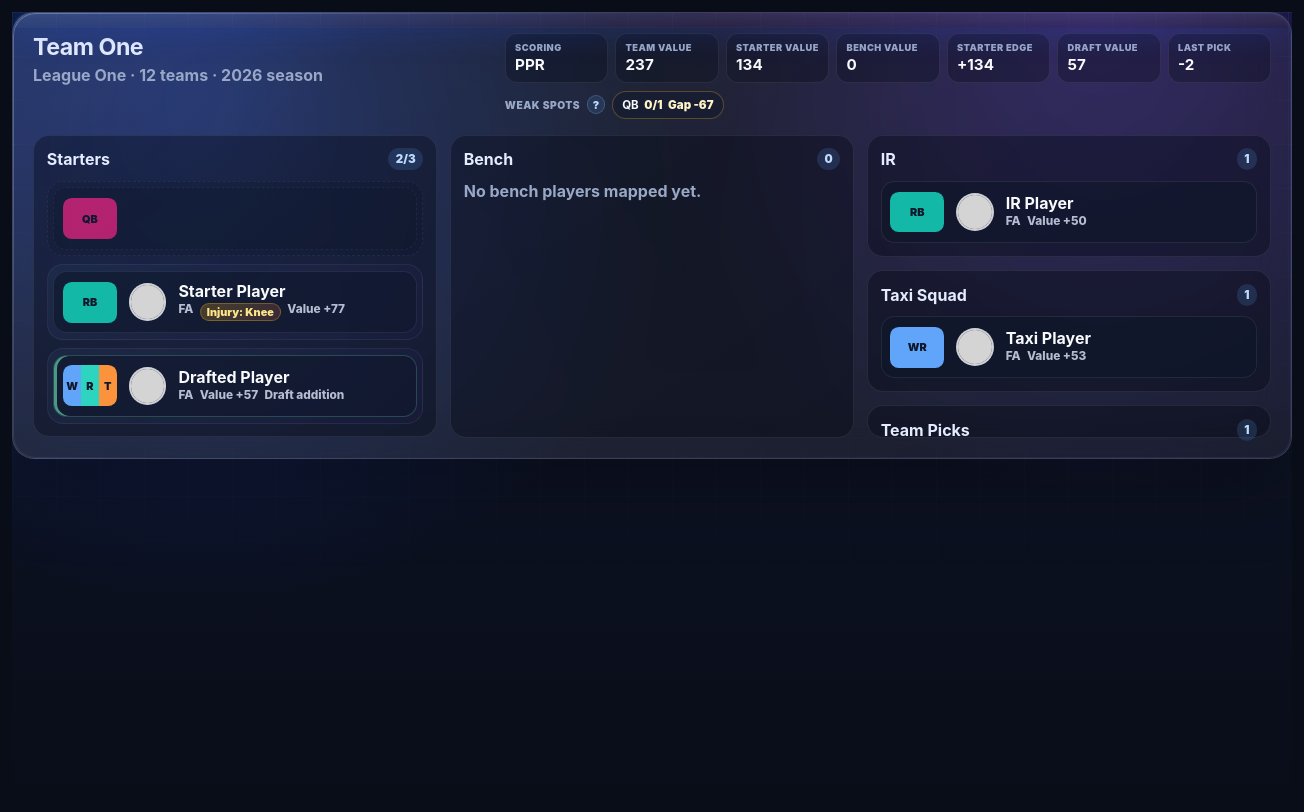
Test: LockerRoomModule › opens roster player insights when a player row is clicked
The width and height of the screenshot is (1304, 812).
What coordinates should you click on to do the following:
click the button "RB Starter Player FA Injury: Knee Value +77"
I would click on:
 (235, 302)
Its box is [53, 271, 417, 333].
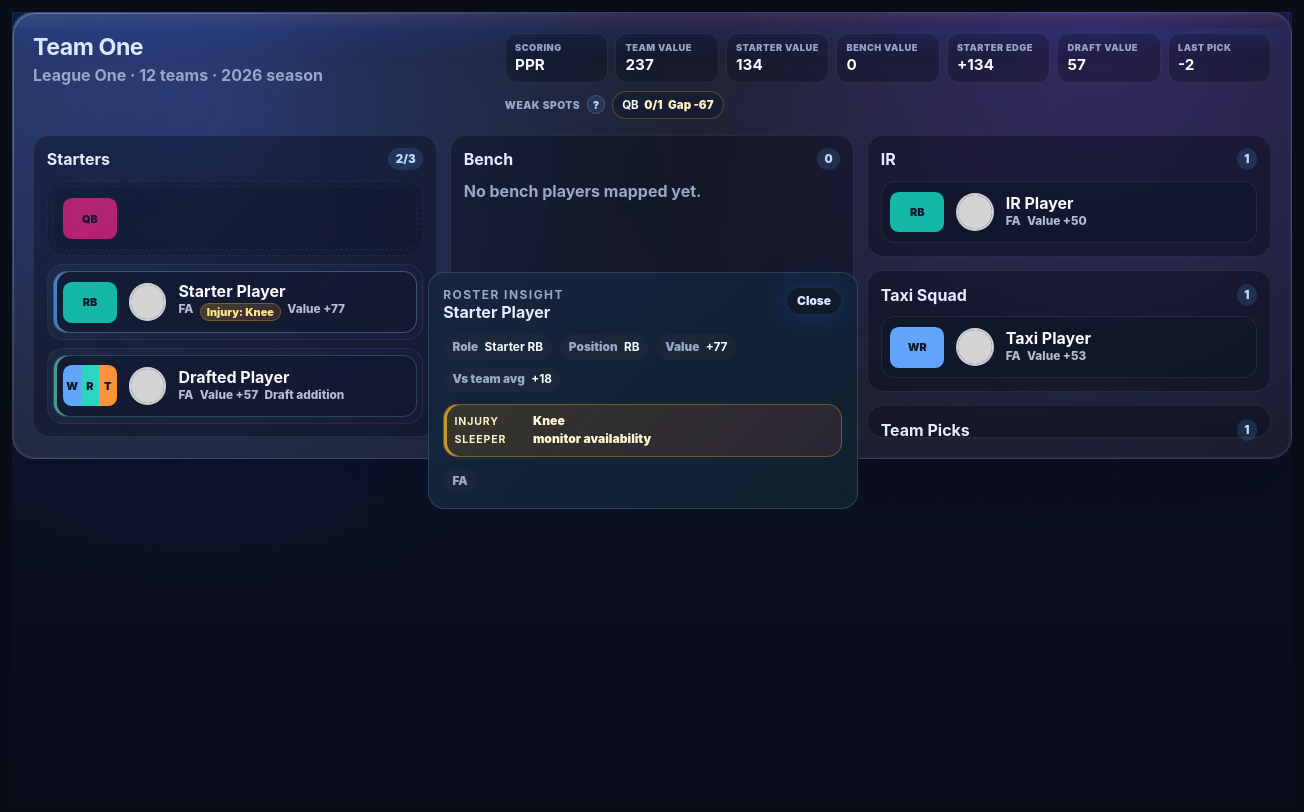
Result: the text "Roster Insight" is shown at [443, 287, 564, 302]
Result: the heading "Starter Player" is shown at [443, 302, 550, 322]
Result: the text "Starter RB" is shown at [485, 340, 543, 354]
What coordinates should you click on to do the following:
click the button "Close"
I would click on:
 (814, 301)
Its box is [786, 287, 842, 314].
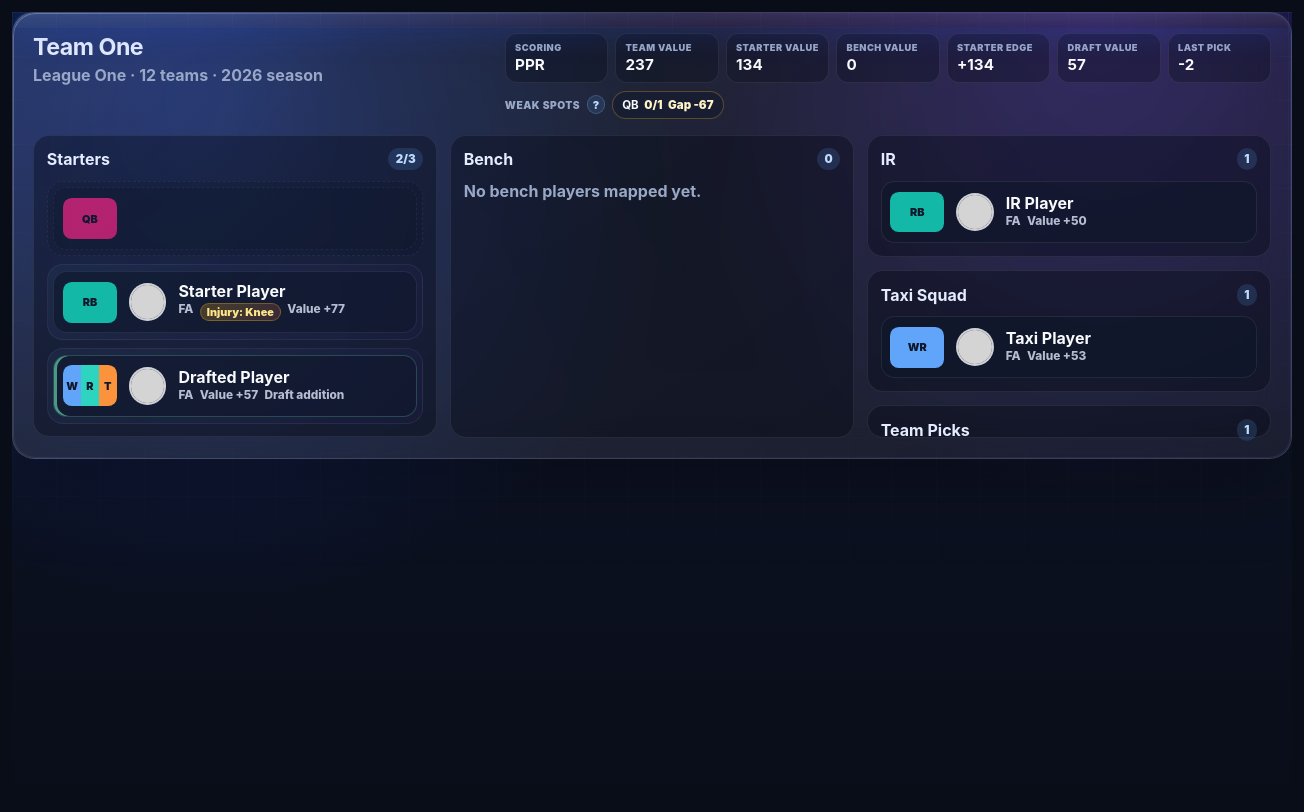
Result: the text "Roster Insight" is gone
